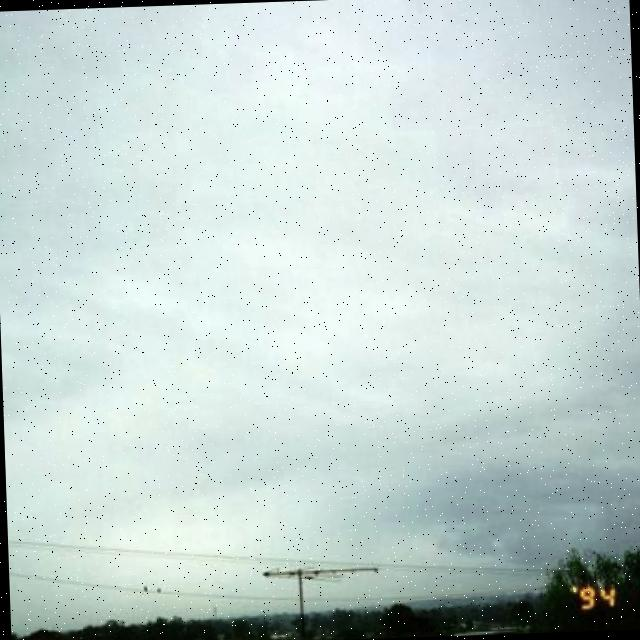Ns: (1, 8, 640, 456)
